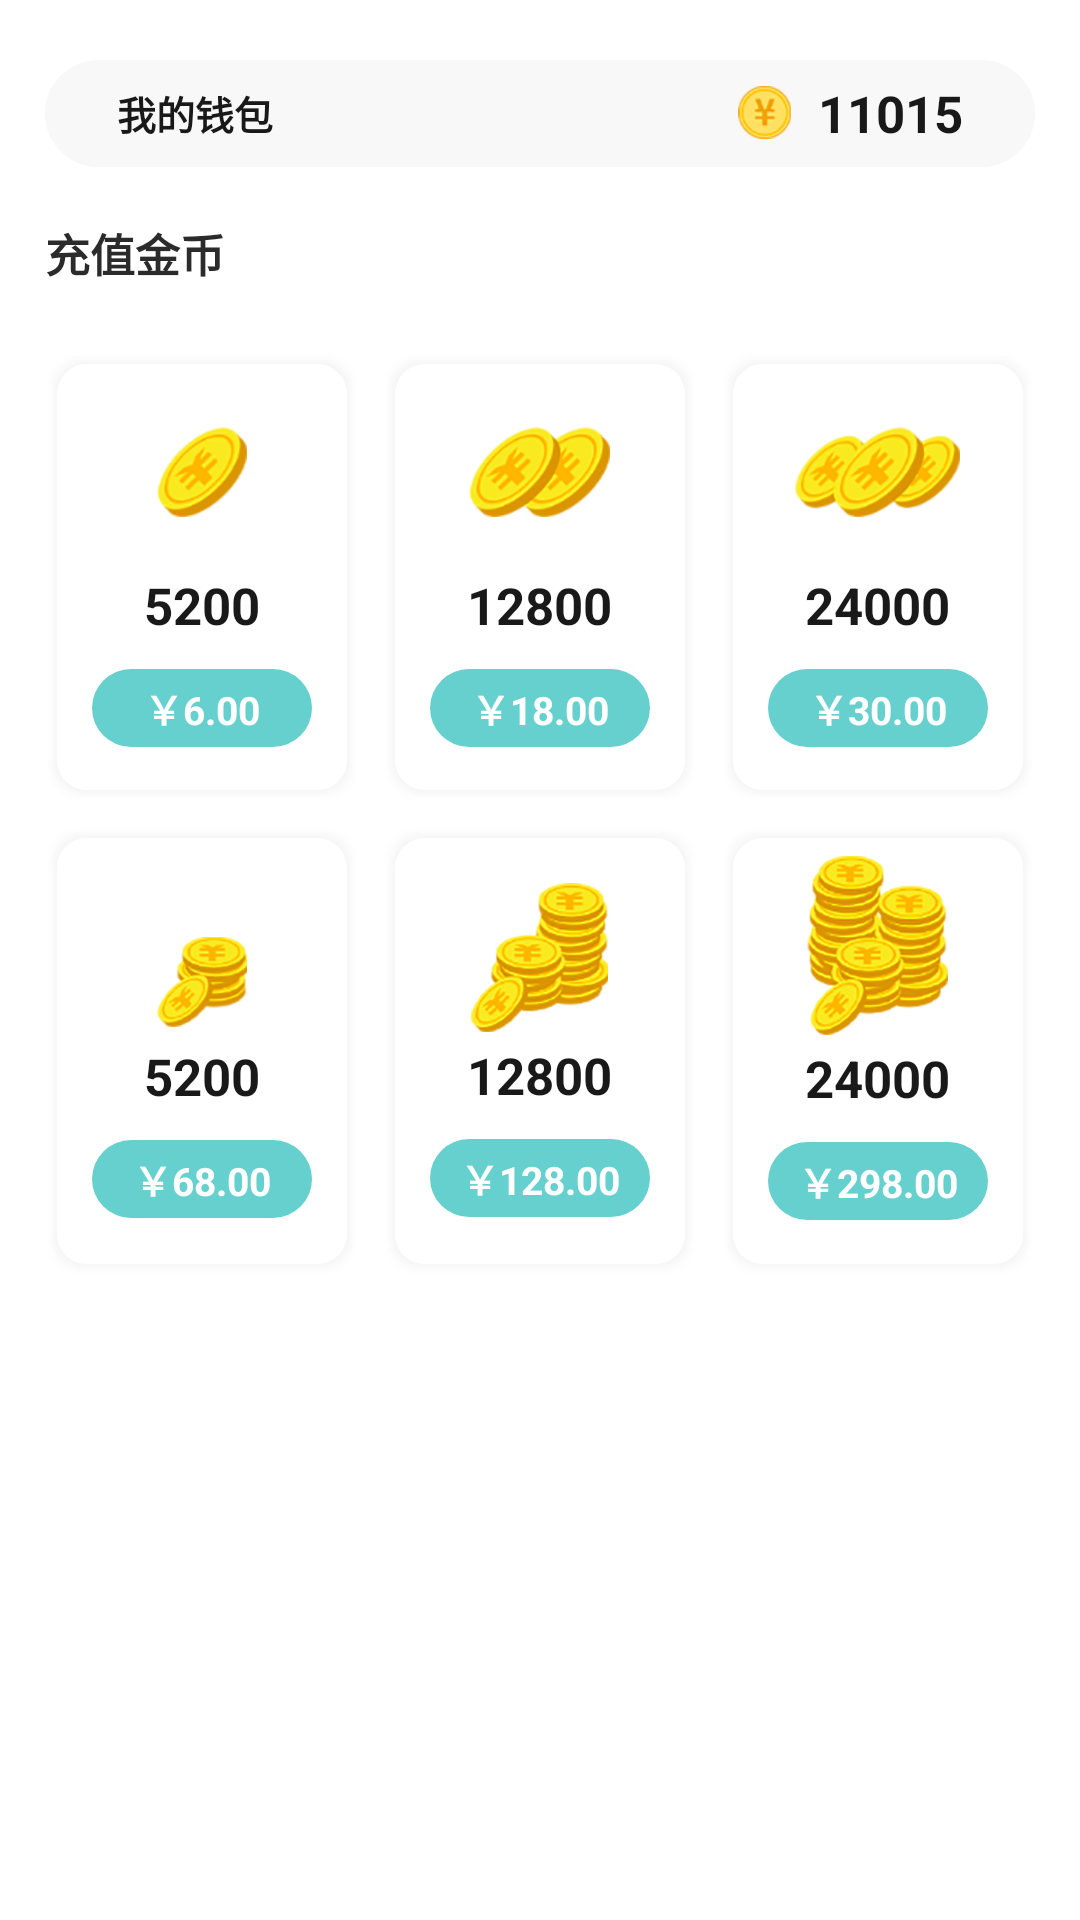

Screen size 1080 x 1920. Icon name, then its box in pixels as (x1, y1, x2, y2):
chongzhi: (157, 427, 247, 517), (469, 427, 610, 517), (795, 427, 960, 517), (807, 856, 948, 1035), (471, 883, 608, 1032), (157, 937, 247, 1027)
jinbi: (738, 86, 791, 139)
